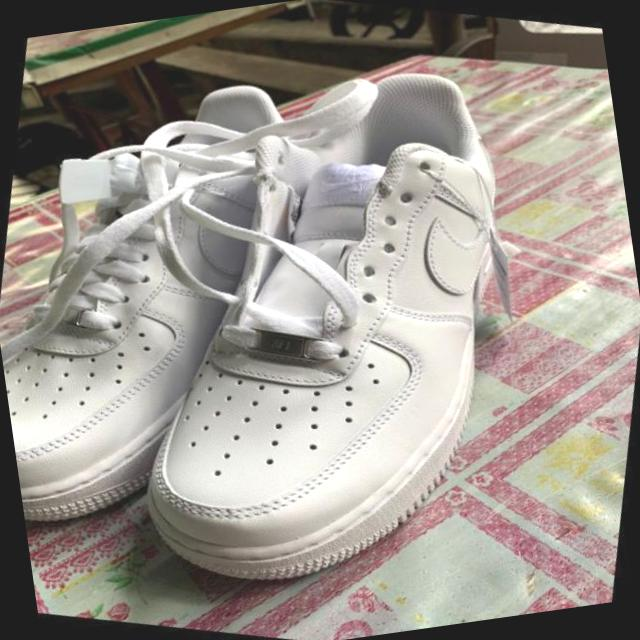nike_original_airforce: (75, 7, 583, 640), (0, 23, 346, 573)
